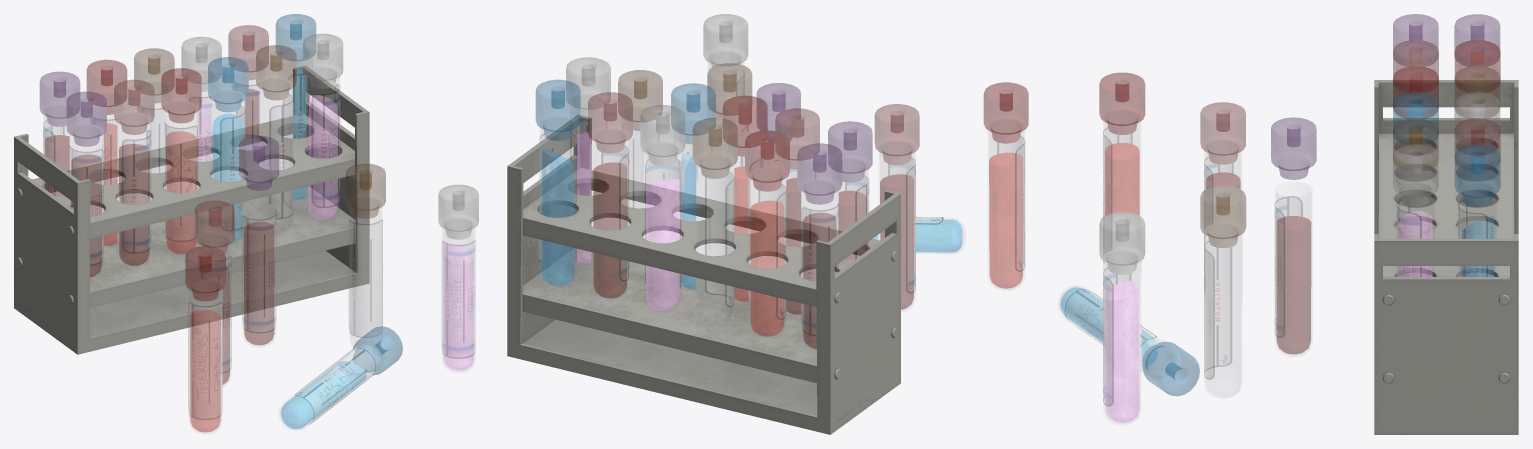
File: test_tube_mutations.glb
The picture shows the model from 3 angles, left to right: view 1: azimuth 30°, elevation 25°; view 2: azimuth 150°, elevation 25°; view 3: azimuth 270°, elevation 25°; orthographic projection. The views are drawn at different scales.
Visible parts, largest first — view 1: Rack, Phials_Racked, Phial_Telekinesis, Phial_Telepathy, Phial_Blank_3, Phial_Marsupial, Phial_Blank_2, Phial_Blank_1, Phial_Cap; view 2: Rack, Phials_Racked, Phial_Telekinesis, Phial_Blank_1, Phial_Telepathy, Phial_Blank_3, Phial_Cap, Phial_Marsupial; view 3: Rack, Phials_Racked, Phial_Telepathy, Phial_Blank_3, Phial_Telekinesis, Phial_Blank_2, Phial_Marsupial, Phial_Blank_1, Phial_Cap.
Part boxes in pixels (x1,y1,x2,y2): Rack: (14, 65, 369, 354); Phials_Racked: (40, 14, 342, 277); Phial_Telekinesis: (185, 246, 225, 432); Phial_Telepathy: (438, 185, 478, 371); Phial_Blank_3: (346, 164, 385, 345); Phial_Marsupial: (280, 326, 402, 429); Phial_Blank_2: (242, 202, 275, 345); Phial_Blank_1: (195, 200, 234, 385); Phial_Cap: (239, 136, 278, 190); Rack: (507, 115, 900, 434); Phials_Racked: (536, 57, 872, 349); Phial_Telekinesis: (984, 82, 1028, 289); Phial_Blank_1: (875, 104, 919, 310); Phial_Telepathy: (703, 14, 747, 95); Phial_Blank_3: (707, 63, 751, 131); Phial_Cap: (757, 83, 800, 142); Phial_Marsupial: (873, 217, 963, 252); Rack: (1374, 80, 1518, 434); Phials_Racked: (1393, 14, 1500, 276); Phial_Telepathy: (1099, 212, 1144, 423); Phial_Blank_3: (1200, 186, 1245, 396); Phial_Telekinesis: (1099, 73, 1144, 263); Phial_Blank_2: (1275, 192, 1311, 355); Phial_Marsupial: (1059, 287, 1199, 395); Phial_Blank_1: (1200, 102, 1245, 290); Phial_Cap: (1271, 117, 1316, 179).
Bounding box in the file's own units: 1.42 × 1.09 × 1.7.
3 materials, 3 textured.
